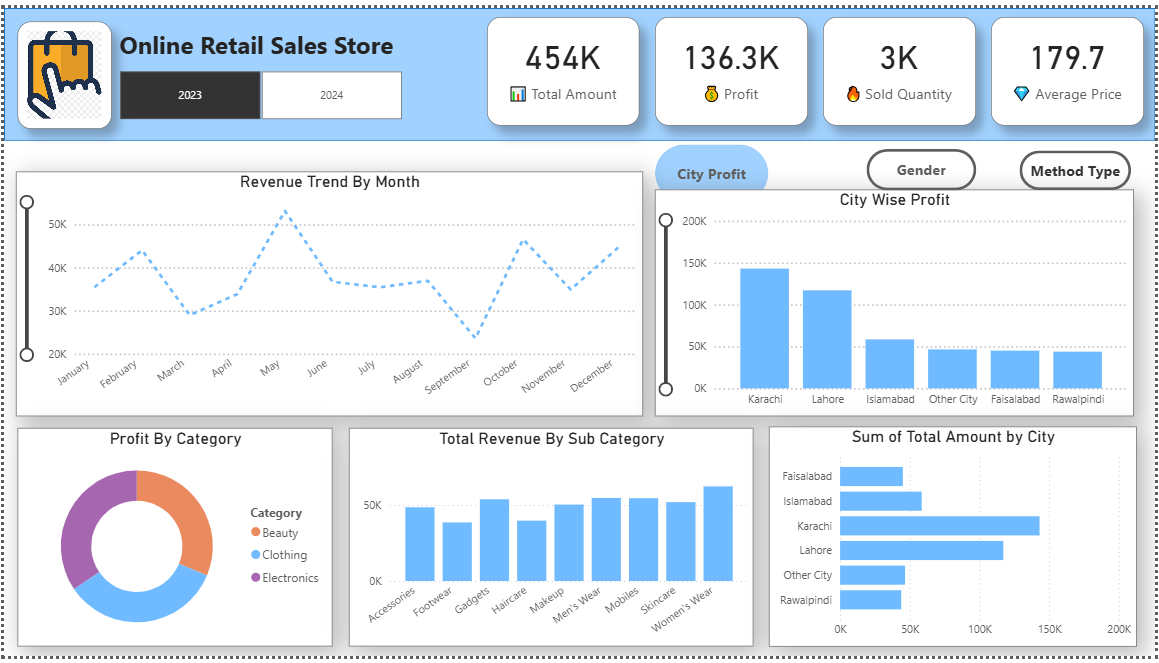

Layout of this report page (visuals, bound fields, positions):
{"tool":"powerbi","page":{"name":"Sales_Dashboard","canvas":[1280,720],"ordinal":0},"visuals":[{"type":"cardVisual","fields":{"Data":["Sum(Fact_Sales.Total Amount)"]},"box":[536.5,14.3,169.8,119],"z":0},{"type":"actionButton","title":"GenderBB","box":[954,152,126,70],"z":1000},{"type":"shape","box":[0,0,1279.4,147.6],"z":4000},{"type":"textbox","box":[123.4,17.2,342.2,56.2],"z":5000},{"type":"cardVisual","fields":{"Data":["Sum(Fact_Sales.Profit)"]},"box":[723.3,9.7,169.8,120.6],"z":6000},{"type":"cardVisual","fields":{"Data":["Sum(Fact_Sales.Quantity)"]},"box":[910.1,9.7,169.8,120.6],"z":7000},{"type":"cardVisual","fields":{"Data":["Avg(Fact_Sales.Price per Unit)"]},"box":[1096.8,9.7,169.8,120.6],"z":8000},{"type":"image","box":[14.3,14.3,104.8,119],"z":9000},{"type":"cardVisual","fields":{"Data":["Sum(Fact_Sales.Total Amount)"]},"box":[536.8,10,169.2,120.4],"z":10000},{"type":"lineChart","title":"Revenue Trend By Month","fields":{"Category":["Fact_Sales.Date.Variation.Date Hierarchy.Month"],"Y":["Sum(Fact_Sales.Total Amount)"]},"box":[13.4,181.8,696.4,271.7],"z":11000},{"type":"donutChart","title":"Total Amount Spent By Gender","fields":{"Y":["Sum(Fact_Sales.Total Amount)"],"Category":["Fact_Sales.Gender"]},"box":[728,200,528,254],"z":12000},{"type":"actionButton","title":"city","box":[728,158,122,44],"z":14000},{"type":"actionButton","title":"Method","box":[1128,158,124,44],"z":17000},{"type":"donutChart","title":"Profit By Category","fields":{"Category":["Fact_Sales.Product Category"],"Y":["Sum(Fact_Sales.Profit)"]},"box":[15.3,466.8,350.1,243],"z":18000},{"type":"clusteredColumnChart","title":"Total Revenue By Sub Category","fields":{"Category":["Fact_Sales.Sub Category"],"Y":["Sum(Fact_Sales.Total Amount)"]},"box":[382.7,466.8,449.6,243],"z":19000},{"type":"clusteredBarChart","title":"Total Amount by City","fields":{"Category":["Dim_City.City"],"Y":["Sum(Fact_Sales.Total Amount)"]},"box":[850,465.5,408.6,244.8],"z":20000},{"type":"slicer","fields":{"Values":["Fact_Sales.Date.Variation.Date Hierarchy.Year"]},"box":[103.1,62.5,362.5,67.2],"z":21000}]}

Visuals, with their boxes in screenshot pixels (x1, y1, x2, y2), scaled from the page's 1280x720 canvas onto the 1159x663 screenshot:
cardVisual - Sum(Fact_Sales.Total Amount): bbox=[486, 13, 640, 123]
"GenderBB" actionButton: bbox=[864, 140, 978, 204]
shape: bbox=[0, 0, 1158, 136]
textbox: bbox=[112, 16, 422, 68]
cardVisual - Sum(Fact_Sales.Profit): bbox=[655, 9, 809, 120]
cardVisual - Sum(Fact_Sales.Quantity): bbox=[824, 9, 978, 120]
cardVisual - Avg(Fact_Sales.Price per Unit): bbox=[993, 9, 1147, 120]
image: bbox=[13, 13, 108, 123]
cardVisual - Sum(Fact_Sales.Total Amount): bbox=[486, 9, 639, 120]
"Revenue Trend By Month" lineChart: bbox=[12, 167, 643, 418]
"Total Amount Spent By Gender" donutChart: bbox=[659, 184, 1137, 418]
"city" actionButton: bbox=[659, 145, 770, 186]
"Method" actionButton: bbox=[1021, 145, 1134, 186]
"Profit By Category" donutChart: bbox=[14, 430, 331, 654]
"Total Revenue By Sub Category" clusteredColumnChart: bbox=[347, 430, 754, 654]
"Total Amount by City" clusteredBarChart: bbox=[770, 429, 1140, 654]
slicer - Fact_Sales.Date.Variation.Date Hierarchy.Year: bbox=[93, 58, 422, 119]
